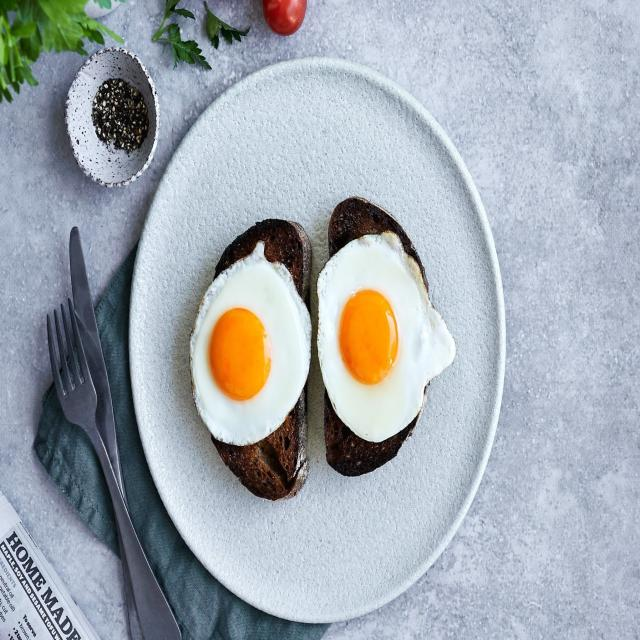Egg: (318, 232, 455, 442), (190, 242, 311, 446)
